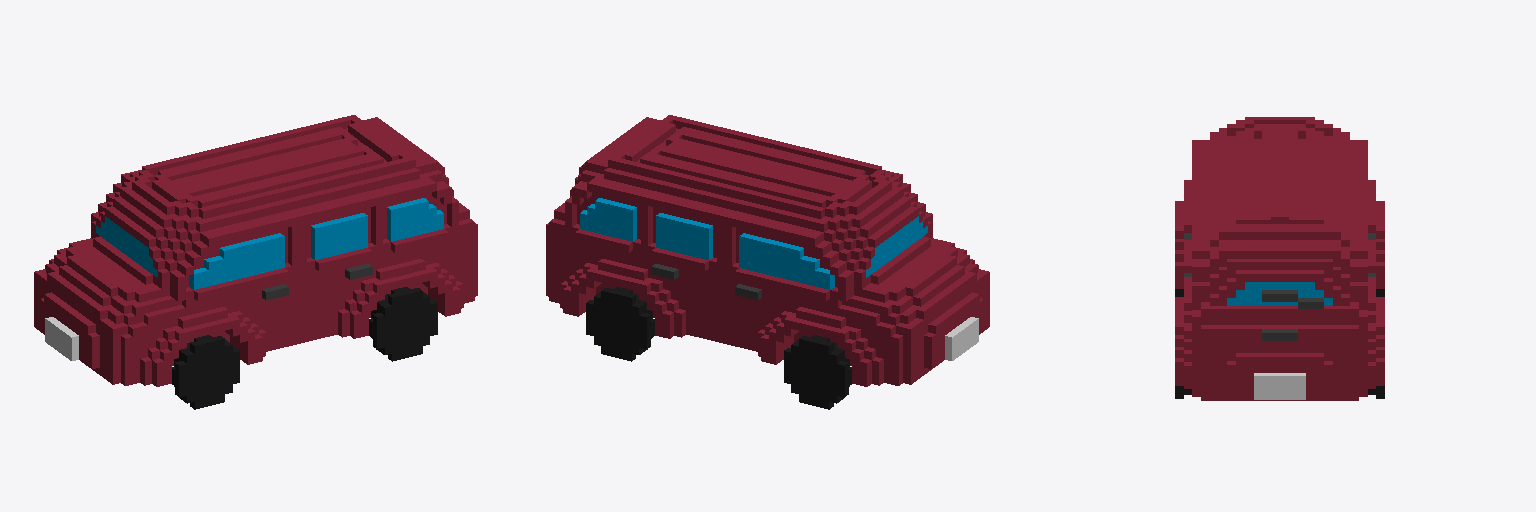
3 renders of one model, left to right at view 1: azimuth 30°, elevation 25°; view 2: azimuth 150°, elevation 25°; view 3: azimuth 270°, elevation 25°, orthographic.
Parts seen in each view (by area): view 1: object 1; view 2: object 1; view 3: object 1.
Part boxes in pixels (x1,y1,x2,y2): object 1: (34, 115, 477, 409); object 1: (546, 115, 989, 409); object 1: (1175, 117, 1384, 400).
Bounding box in the file's own units: 5.2 × 2.2 × 2.4.
Materials: 1 (1 with a texture image).